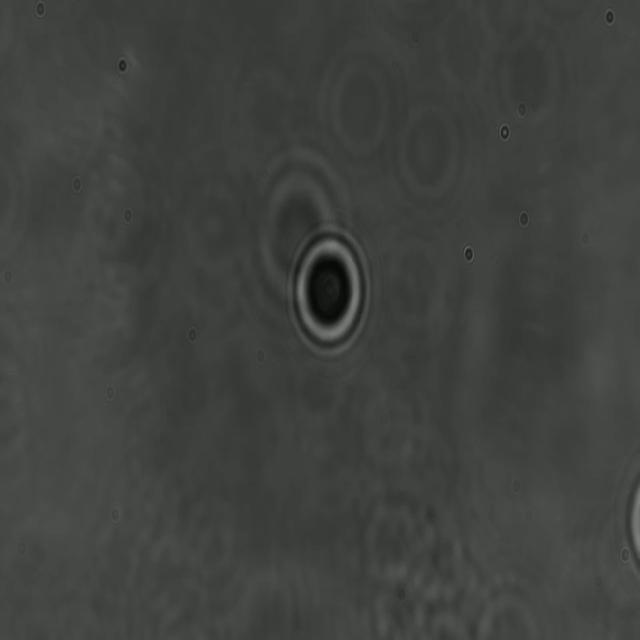DCELL: (278, 215, 383, 367)
